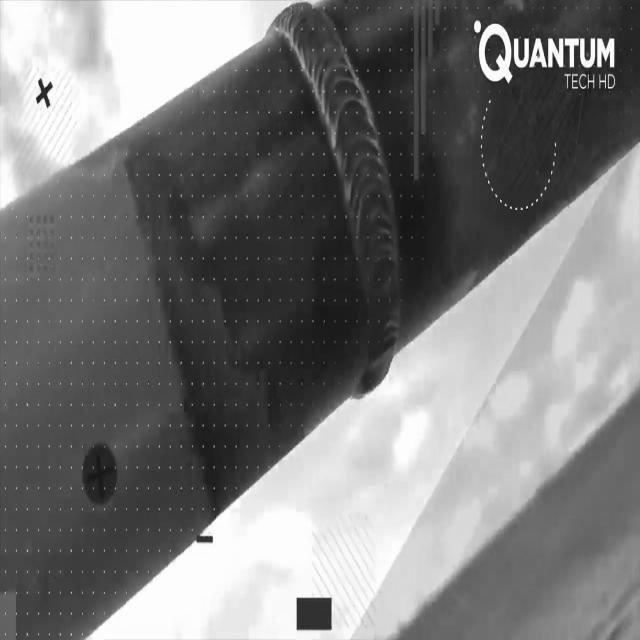Good Weld: (280, 12, 406, 380)
